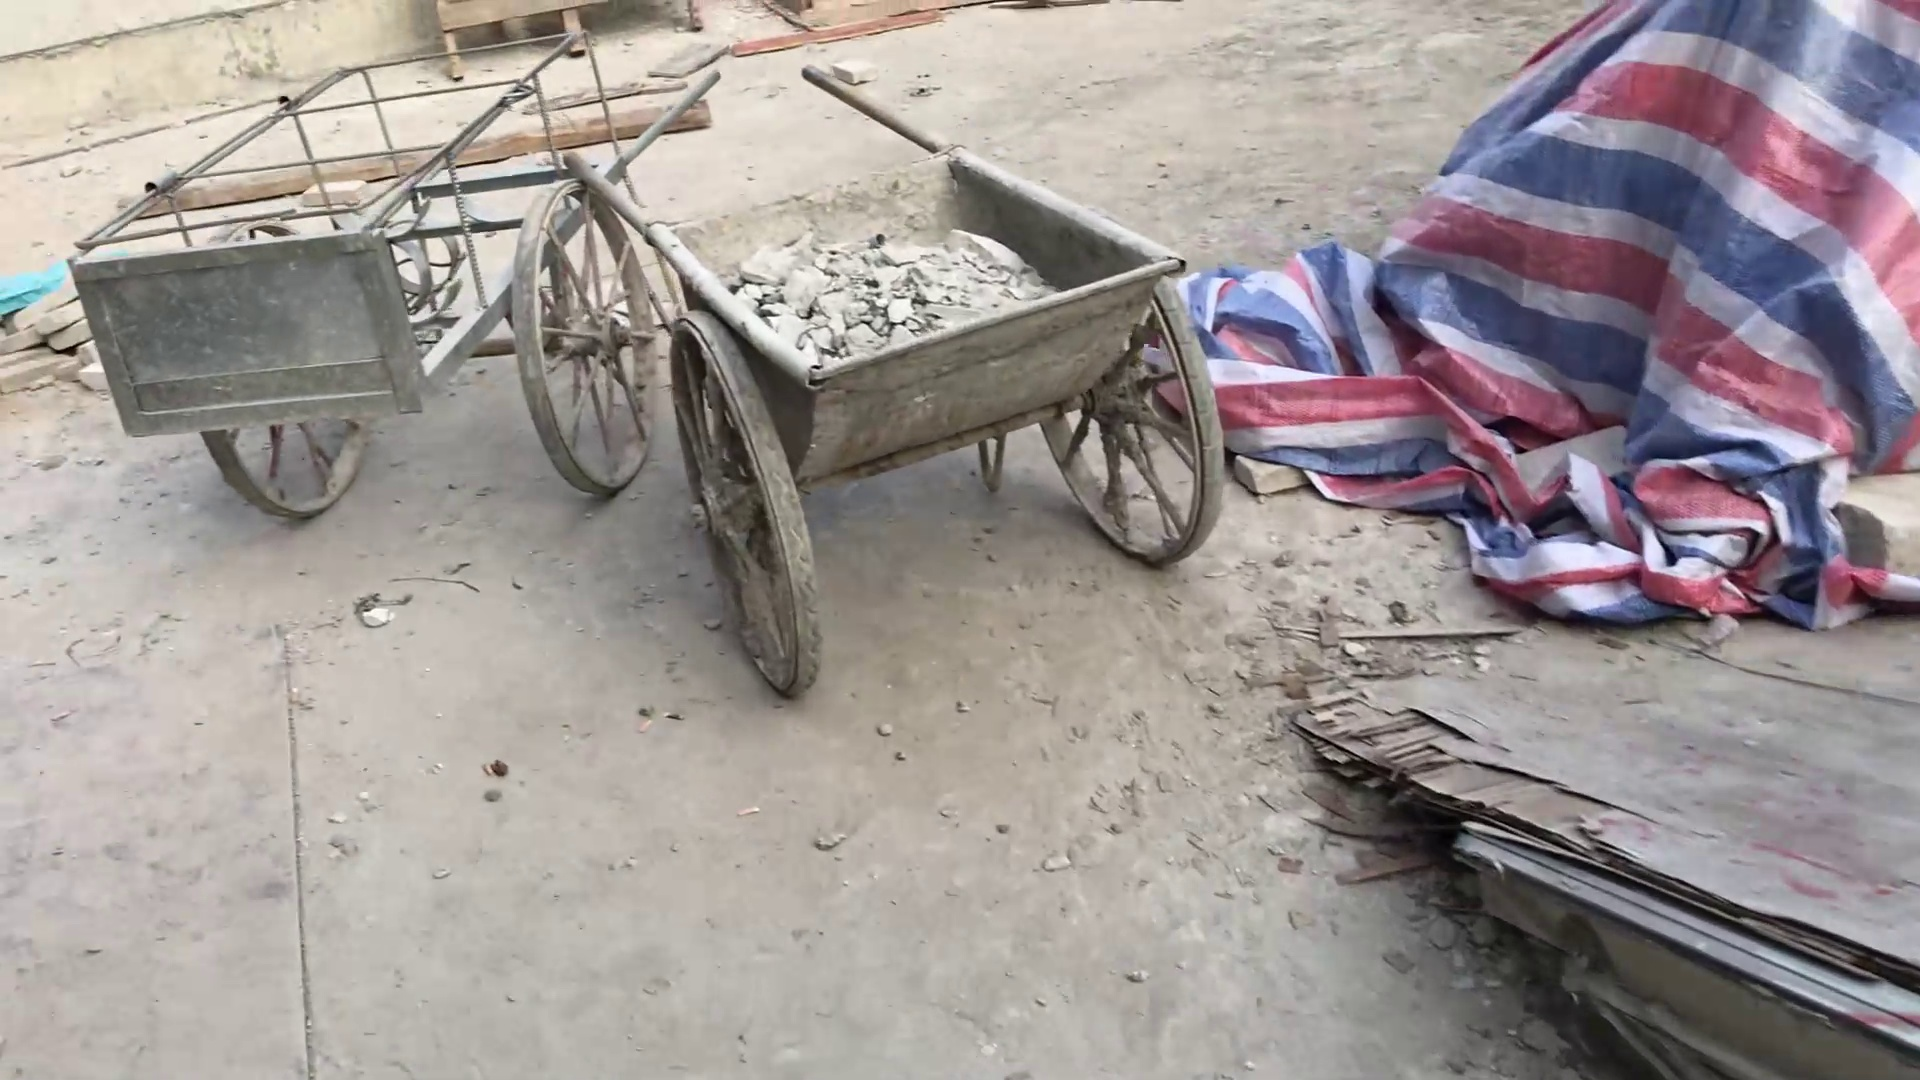handcart: (563, 73, 1294, 669), (66, 1, 727, 533)
